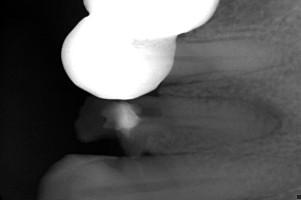Furcation Involvement: (249, 98, 285, 132)
